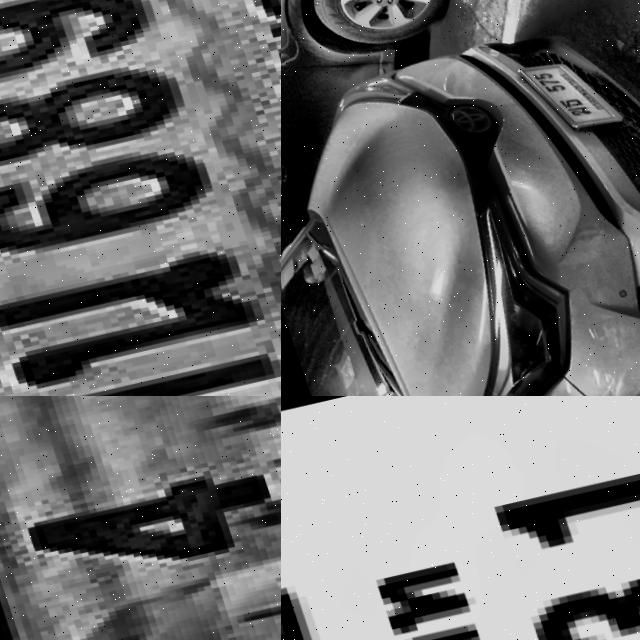license-plate: (0, 0, 281, 396), (281, 396, 640, 640), (0, 396, 281, 640), (505, 45, 620, 143)
